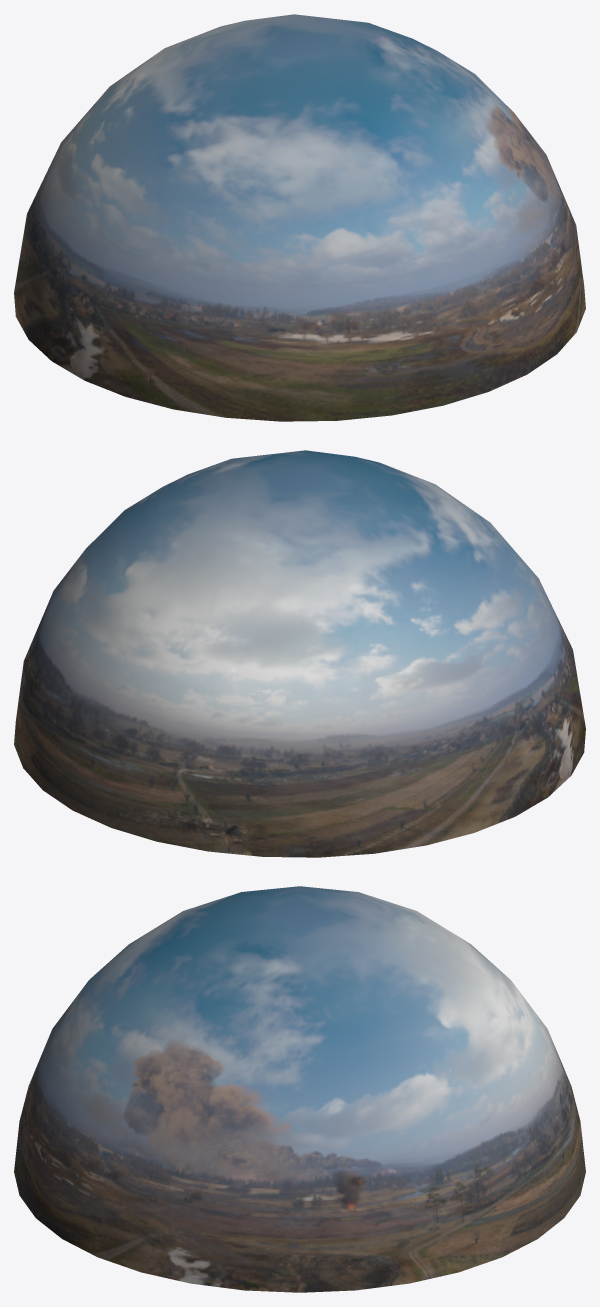
Rendered from 99_Poland_sky_forward.fbx.
3 views of the same model, one above another, from view 1: azimuth 30°, elevation 25°; view 2: azimuth 150°, elevation 25°; view 3: azimuth 270°, elevation 25° (orthographic).
Visible parts, largest first — view 1: dome_03; view 2: dome_03; view 3: dome_03.
Part boxes in pixels (x1,y1,x2,y2): dome_03: [14, 14, 585, 421]; dome_03: [14, 450, 585, 857]; dome_03: [14, 886, 585, 1292].
Bounding box in the file's own units: 10183 × 5092 × 10183.
Materials: 1 (1 with a texture image).
